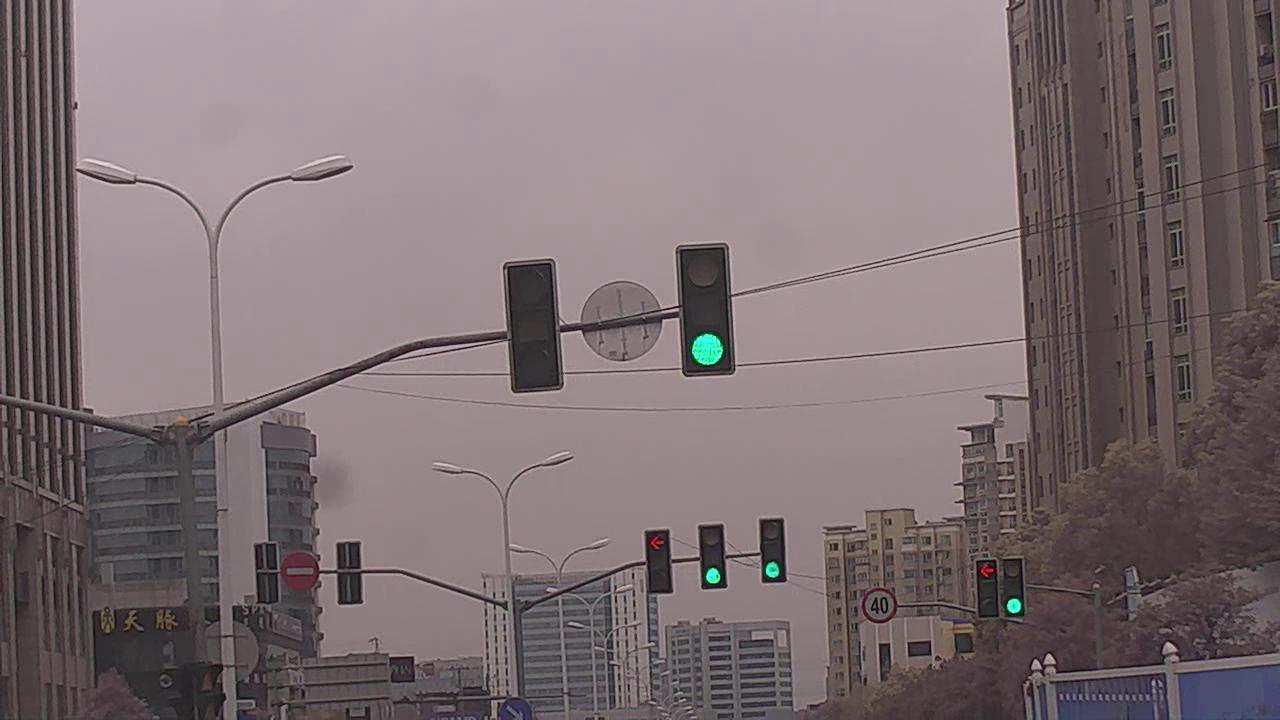traffic_light: (675, 242, 736, 376), (505, 261, 563, 391), (696, 522, 730, 591), (759, 518, 789, 584), (644, 527, 673, 595), (976, 556, 1003, 619), (1002, 556, 1027, 619)
